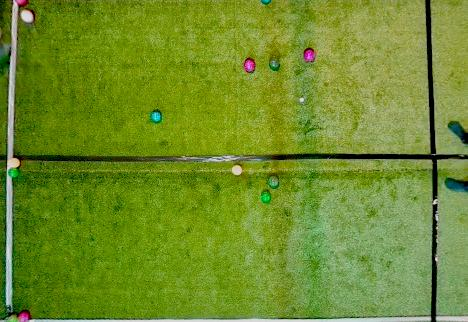blue: (150, 110, 162, 123), (261, 0, 272, 5)
green: (267, 175, 279, 188), (260, 190, 271, 203), (269, 58, 279, 70), (8, 168, 19, 178), (5, 314, 20, 321)
red: (20, 10, 34, 23), (303, 49, 315, 62), (244, 59, 255, 72), (18, 311, 30, 321), (14, 0, 27, 6)
vline: (425, 0, 467, 321), (0, 5, 18, 157), (0, 178, 13, 315)
white: (300, 98, 304, 102)
yellow: (7, 157, 20, 168), (232, 165, 242, 175)
